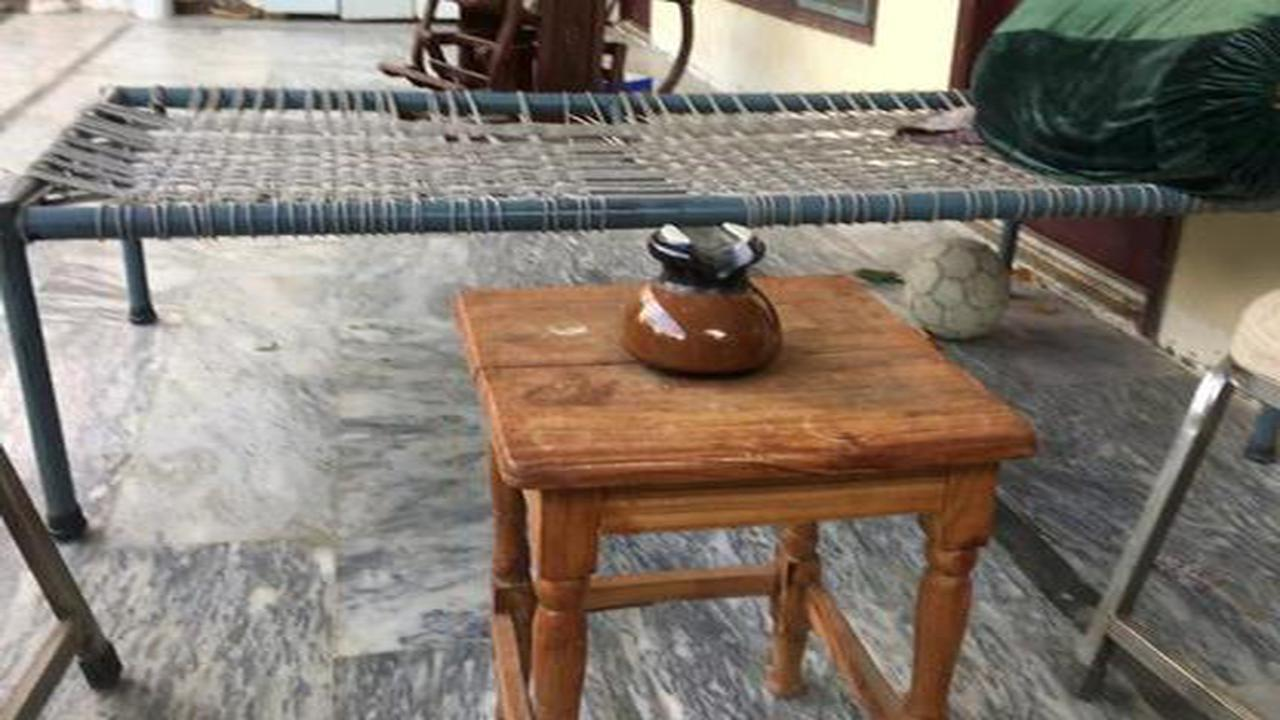insulator_pin: (597, 206, 807, 386)
